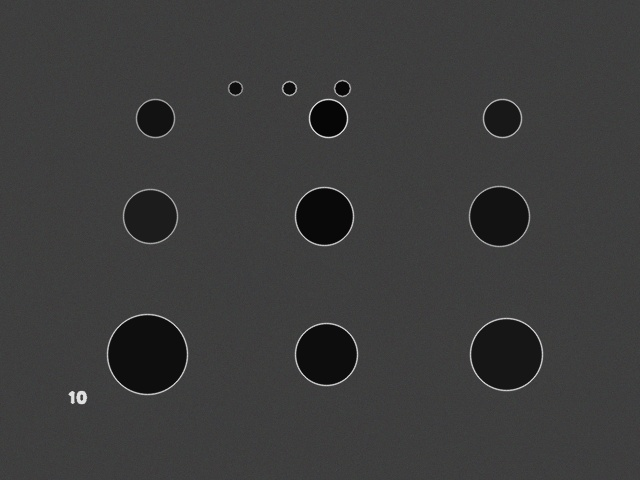hole: (107, 314, 187, 394), (470, 318, 542, 390), (295, 323, 357, 385), (469, 186, 529, 246), (295, 187, 353, 245), (123, 189, 177, 243), (136, 99, 174, 137), (309, 99, 347, 137), (483, 99, 521, 137), (334, 80, 350, 96), (228, 81, 242, 95), (282, 81, 296, 95)
